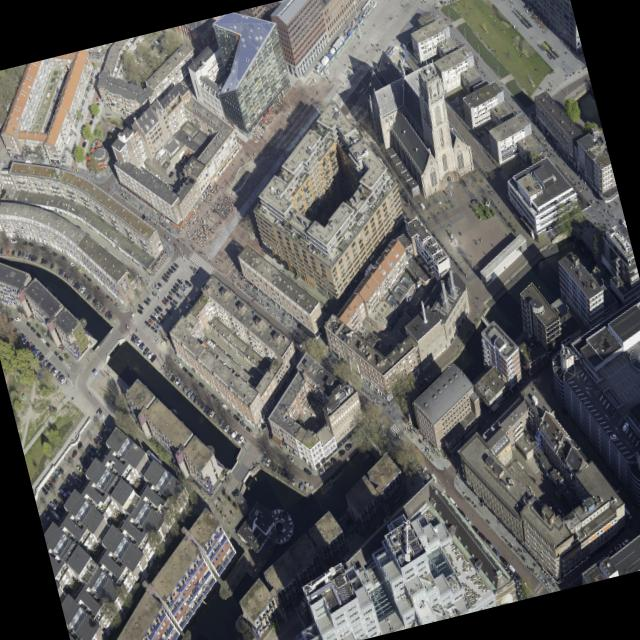large-vehicle: (362, 262, 375, 280)
small-vehicle: (181, 149, 191, 162), (553, 489, 563, 502), (448, 495, 457, 508), (623, 506, 632, 519), (506, 562, 515, 573), (556, 508, 565, 518), (548, 499, 557, 509), (513, 571, 522, 581), (457, 507, 465, 518), (479, 531, 487, 542), (149, 352, 157, 363), (613, 543, 622, 552), (41, 486, 49, 496), (73, 479, 81, 489), (46, 505, 54, 515), (230, 429, 238, 439), (324, 461, 332, 471), (464, 515, 472, 525), (485, 538, 493, 548), (621, 421, 629, 431), (499, 555, 507, 565), (76, 476, 84, 485), (57, 503, 65, 512), (291, 474, 297, 486), (345, 442, 353, 451), (304, 467, 312, 476), (492, 547, 500, 556), (338, 448, 346, 457), (621, 537, 629, 546), (101, 439, 108, 449), (223, 423, 230, 433), (472, 524, 479, 534), (608, 405, 615, 415), (632, 434, 639, 444), (75, 281, 82, 291), (142, 346, 149, 356), (193, 394, 200, 404), (184, 279, 192, 287), (161, 275, 169, 283), (169, 301, 177, 309), (164, 307, 172, 315), (287, 455, 295, 463), (606, 549, 614, 557), (149, 314, 157, 322), (38, 353, 45, 362), (57, 465, 64, 474), (55, 469, 62, 478), (55, 370, 62, 379), (71, 450, 78, 459), (55, 507, 62, 516), (53, 511, 60, 520), (43, 512, 50, 521), (246, 425, 253, 434), (237, 435, 244, 444), (170, 373, 177, 382), (392, 316, 399, 325), (318, 467, 325, 476), (397, 309, 404, 318), (261, 422, 268, 431), (177, 379, 184, 388), (186, 389, 193, 398), (613, 484, 620, 493), (147, 351, 154, 360), (521, 579, 528, 588), (203, 404, 210, 413), (287, 473, 293, 483), (281, 467, 287, 477), (271, 462, 277, 472), (20, 334, 27, 342), (71, 471, 78, 479), (57, 373, 64, 381), (93, 438, 100, 446), (87, 448, 94, 456), (83, 451, 90, 459), (81, 470, 88, 478), (192, 296, 199, 304), (79, 286, 86, 294), (60, 376, 67, 384), (49, 476, 56, 484), (44, 483, 51, 491), (61, 497, 68, 505), (47, 364, 54, 372), (29, 325, 36, 333), (48, 518, 55, 526), (52, 498, 59, 506), (180, 285, 187, 293), (172, 284, 179, 292), (156, 304, 163, 312), (233, 414, 240, 422), (234, 433, 241, 441), (198, 381, 205, 389), (226, 353, 233, 361), (243, 368, 250, 376), (216, 398, 223, 406), (161, 335, 168, 343), (295, 340, 302, 348), (167, 170, 174, 178), (292, 345, 299, 353), (609, 433, 617, 440), (66, 274, 73, 282), (471, 197, 478, 205), (138, 304, 145, 312), (104, 310, 111, 318), (151, 326, 158, 334), (144, 320, 151, 328), (24, 159, 33, 165), (52, 368, 58, 377), (43, 258, 49, 267), (49, 261, 55, 270), (50, 501, 56, 510), (325, 340, 331, 349), (209, 409, 215, 418), (221, 420, 227, 429), (130, 333, 136, 342), (133, 336, 139, 345), (136, 338, 142, 347), (29, 344, 36, 351), (96, 435, 103, 442), (80, 458, 87, 465), (176, 292, 183, 299), (170, 287, 177, 294), (172, 299, 179, 306), (154, 173, 161, 180), (330, 457, 337, 464), (164, 234, 171, 241), (143, 299, 150, 306), (74, 223, 81, 230), (58, 354, 64, 362), (43, 358, 49, 366), (45, 361, 51, 369), (12, 327, 18, 335), (18, 331, 24, 339), (22, 337, 28, 345), (77, 441, 83, 449), (93, 453, 99, 461), (90, 456, 96, 464), (185, 304, 191, 312), (52, 472, 58, 480), (47, 479, 53, 487), (67, 478, 73, 486), (62, 484, 68, 492), (67, 489, 73, 497), (50, 366, 56, 374), (57, 492, 63, 500), (155, 284, 161, 292), (154, 307, 160, 315), (160, 312, 166, 320), (158, 316, 164, 324), (156, 319, 162, 327), (240, 420, 246, 428), (227, 426, 233, 434), (183, 385, 189, 393), (388, 323, 394, 331), (386, 342, 392, 350), (175, 377, 181, 385), (265, 458, 271, 466), (210, 338, 216, 346), (188, 371, 194, 379), (154, 322, 160, 330), (152, 310, 158, 318), (299, 482, 305, 490), (190, 392, 196, 400), (82, 288, 88, 296), (84, 290, 90, 298), (138, 341, 144, 349), (71, 278, 77, 286), (73, 280, 79, 288), (484, 125, 490, 133), (140, 344, 146, 352), (200, 401, 206, 409), (197, 398, 203, 406), (86, 293, 92, 301), (92, 297, 98, 305), (98, 304, 104, 312), (40, 256, 45, 265), (284, 470, 289, 479), (277, 466, 282, 475), (58, 267, 63, 276), (35, 331, 41, 338), (40, 336, 46, 343), (34, 349, 40, 356), (36, 351, 42, 358), (53, 350, 59, 357), (90, 445, 96, 452), (65, 494, 71, 501), (76, 465, 82, 472), (95, 449, 101, 456), (52, 250, 58, 257), (39, 245, 46, 251), (171, 265, 177, 272), (168, 267, 174, 274), (164, 273, 170, 280), (182, 283, 188, 290), (177, 278, 183, 285), (166, 294, 172, 301), (164, 296, 170, 303), (161, 299, 167, 306), (195, 293, 201, 300), (174, 281, 180, 288), (228, 409, 234, 416), (211, 393, 217, 400), (237, 363, 243, 370), (177, 361, 183, 368), (182, 366, 188, 373), (254, 378, 260, 385), (167, 182, 173, 189), (164, 332, 170, 339), (63, 272, 69, 279), (114, 302, 120, 309), (95, 284, 101, 291), (86, 276, 92, 283), (137, 308, 143, 315), (107, 313, 113, 320), (137, 273, 143, 280), (60, 254, 66, 261), (101, 307, 107, 314), (30, 254, 35, 262), (219, 418, 224, 426), (61, 270, 66, 278), (179, 159, 184, 167), (206, 408, 211, 416), (27, 342, 33, 348), (85, 463, 91, 469), (46, 247, 52, 253), (28, 241, 34, 247), (187, 302, 193, 308), (173, 262, 179, 268), (151, 290, 157, 296), (145, 167, 151, 173), (173, 187, 179, 193), (119, 259, 125, 265), (148, 318, 154, 324), (84, 231, 90, 237), (45, 341, 50, 348), (32, 347, 37, 354), (7, 317, 14, 322), (104, 246, 109, 253), (72, 483, 77, 490), (27, 253, 32, 260), (33, 255, 38, 262), (10, 238, 17, 243), (157, 281, 162, 288), (168, 290, 173, 297), (221, 348, 226, 355), (408, 295, 413, 302), (198, 290, 203, 297), (190, 299, 195, 306), (105, 293, 110, 300), (104, 436, 109, 443), (69, 260, 74, 267), (17, 249, 21, 257), (0, 247, 4, 255), (21, 250, 25, 258), (25, 251, 29, 259), (26, 321, 31, 327), (25, 341, 30, 347), (14, 316, 20, 321), (84, 467, 89, 473), (154, 39, 159, 45), (150, 43, 156, 48), (22, 240, 28, 245), (134, 59, 139, 65), (166, 270, 171, 276), (161, 179, 167, 184), (216, 344, 221, 350), (266, 417, 271, 423), (129, 77, 134, 83), (296, 411, 301, 417), (188, 81, 193, 87), (476, 131, 481, 137), (83, 272, 88, 278), (146, 296, 151, 302), (131, 268, 136, 274), (125, 263, 130, 269), (77, 267, 82, 273), (55, 97, 59, 104), (156, 38, 161, 43), (136, 58, 141, 63), (138, 56, 143, 61), (149, 45, 154, 50), (162, 51, 167, 56), (160, 53, 165, 58), (142, 65, 147, 70), (155, 53, 160, 58), (479, 130, 484, 135), (489, 190, 494, 195), (109, 298, 114, 303), (51, 109, 55, 115), (11, 249, 15, 255), (139, 68, 143, 74), (135, 79, 139, 85), (53, 104, 57, 110), (47, 120, 51, 126), (46, 125, 50, 131), (91, 113, 95, 119), (89, 119, 93, 125), (82, 141, 86, 147), (61, 81, 65, 87), (63, 75, 67, 81), (57, 93, 61, 98), (4, 238, 9, 242), (147, 47, 151, 52), (159, 49, 163, 54), (151, 57, 155, 62), (153, 62, 157, 67), (193, 52, 197, 57), (6, 249, 9, 255), (50, 115, 53, 121), (84, 135, 87, 141), (98, 92, 101, 97), (96, 97, 99, 101), (0, 127, 1, 132)
